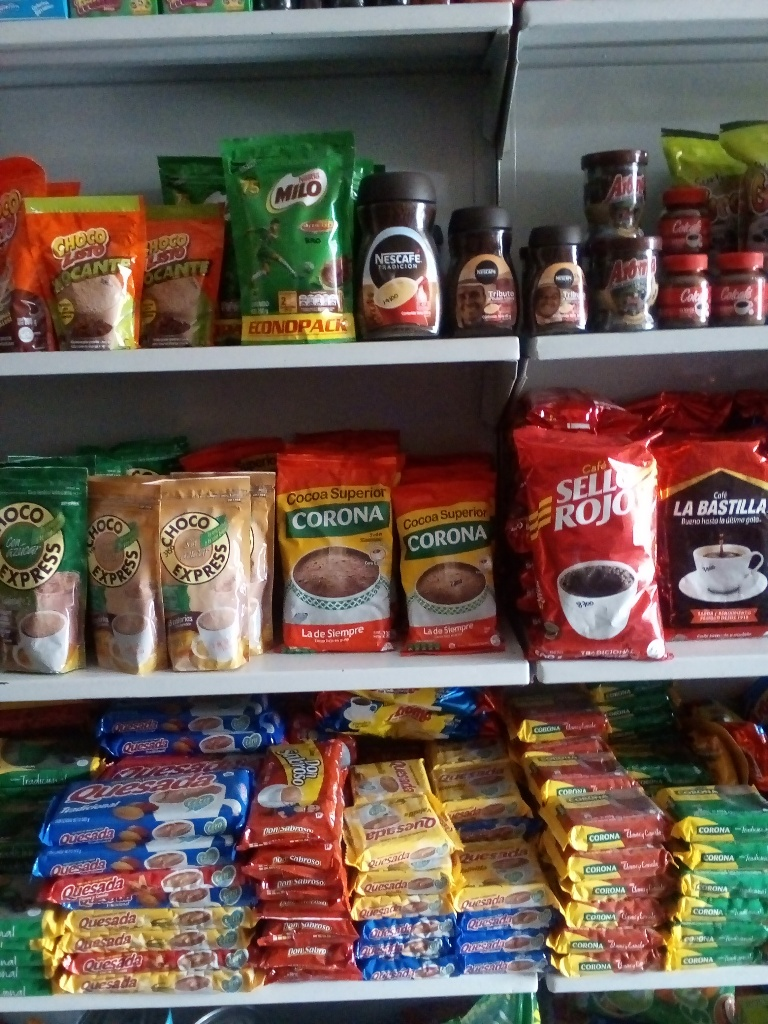COL0170102DYP10000: (26, 195, 151, 360)
COL0170203DYP25000: (221, 134, 360, 343)
